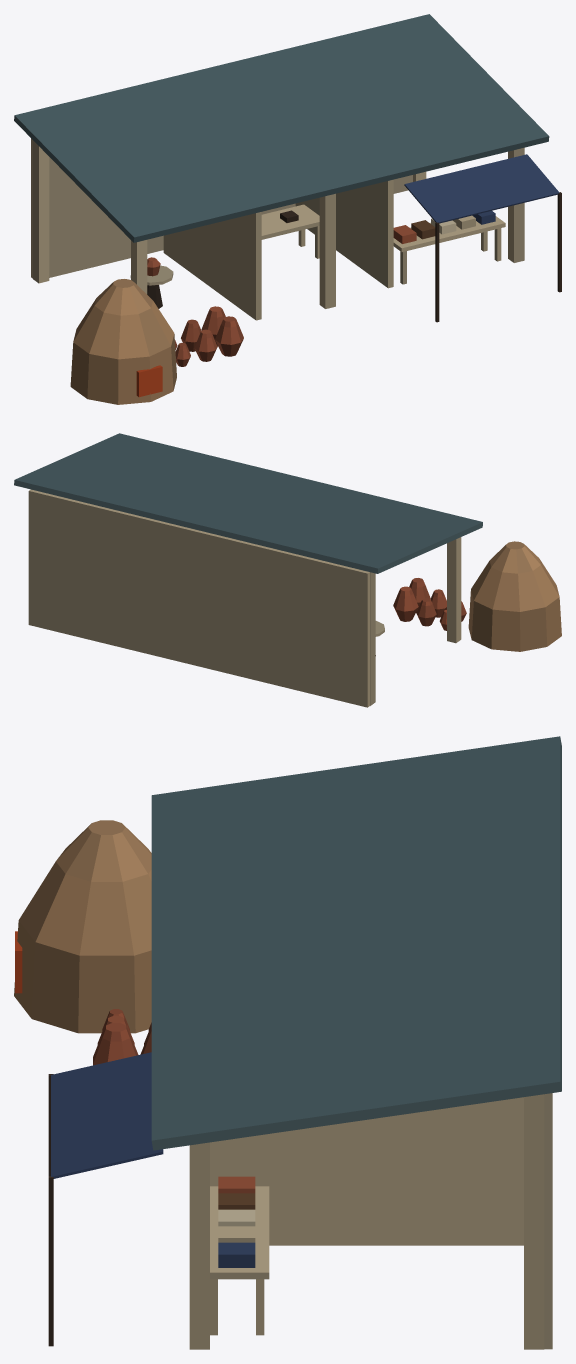
The model's file is walk_veiled_artisan.glb.
3 renders of one model, top to bottom at view 1: azimuth 30°, elevation 25°; view 2: azimuth 150°, elevation 25°; view 3: azimuth 270°, elevation 25°, orthographic. The views are drawn at different scales.
Parts seen in each view (by area): view 1: walk_veiled_artisan_roof, walk_veiled_artisan; view 2: walk_veiled_artisan, walk_veiled_artisan_roof; view 3: walk_veiled_artisan_roof, walk_veiled_artisan.
Boxes of the visible parts, x1,y1,x2,y2 form: walk_veiled_artisan_roof: (14, 14, 549, 242); walk_veiled_artisan: (31, 138, 561, 404); walk_veiled_artisan: (28, 489, 561, 707); walk_veiled_artisan_roof: (14, 433, 482, 573); walk_veiled_artisan_roof: (151, 736, 561, 1150); walk_veiled_artisan: (14, 820, 552, 1349).
Size of what is drawn, in the model's own units: 10.25 by 3.32 by 5.9.
Materials: 2 (2 with a texture image).
